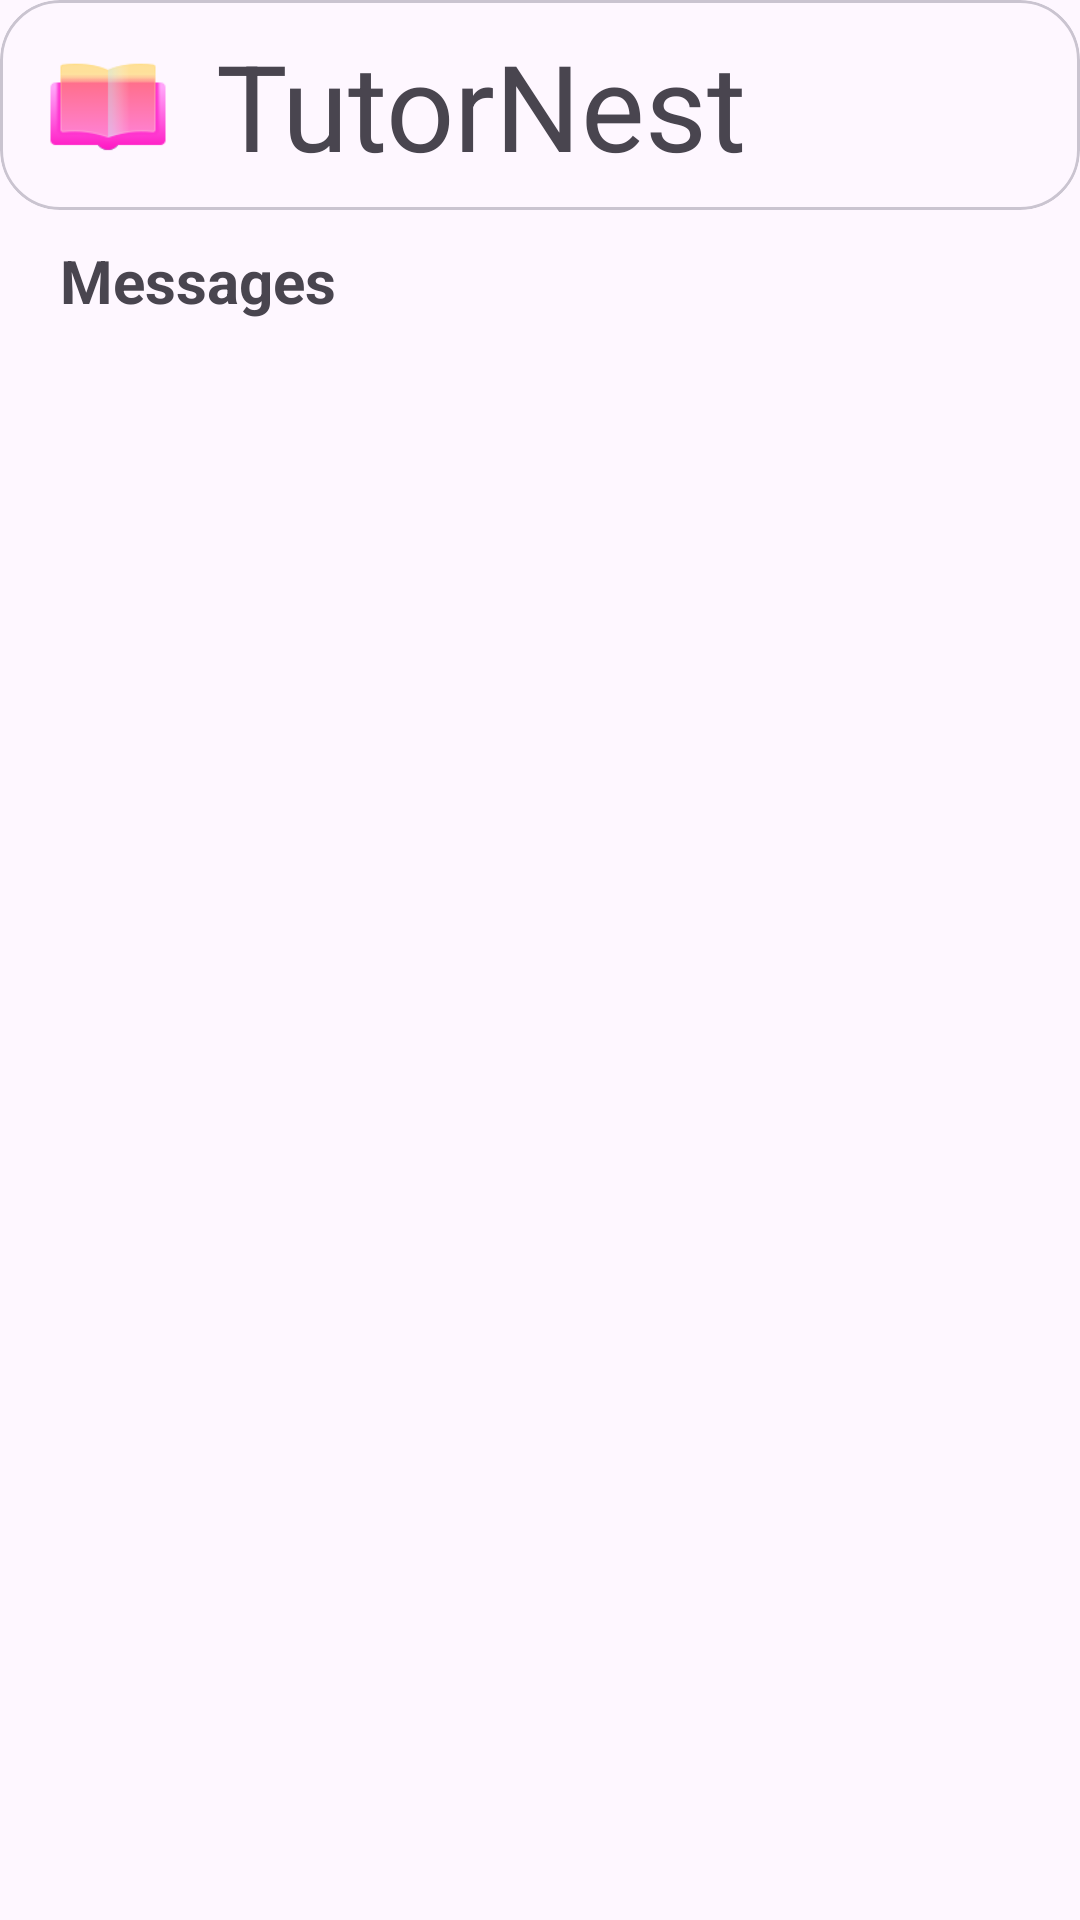

Where to tap for icons on this 1080x1920 app screen, as (x,y):
open book: (108,106)
